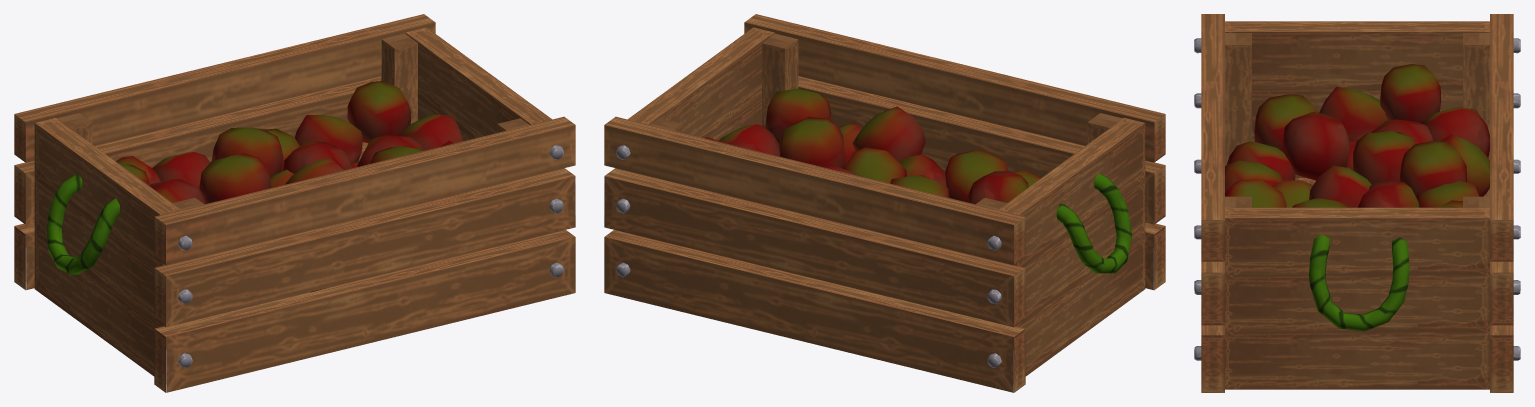
The model's file is FarmCrate_Apple.glb.
The picture shows the model from 3 angles, left to right: view 1: azimuth 30°, elevation 25°; view 2: azimuth 150°, elevation 25°; view 3: azimuth 270°, elevation 25°; orthographic projection. The views are drawn at different scales.
Visible parts, largest first — view 1: FarmCrate_Apple; view 2: FarmCrate_Apple; view 3: FarmCrate_Apple.
Part boxes in pixels (x1,y1,x2,y2): FarmCrate_Apple: (14,14,575,392); FarmCrate_Apple: (604,14,1165,392); FarmCrate_Apple: (1194,14,1520,392).
Bounding box in the file's own units: 0.7138 × 0.2438 × 0.4142.
3 materials, 3 textured.
